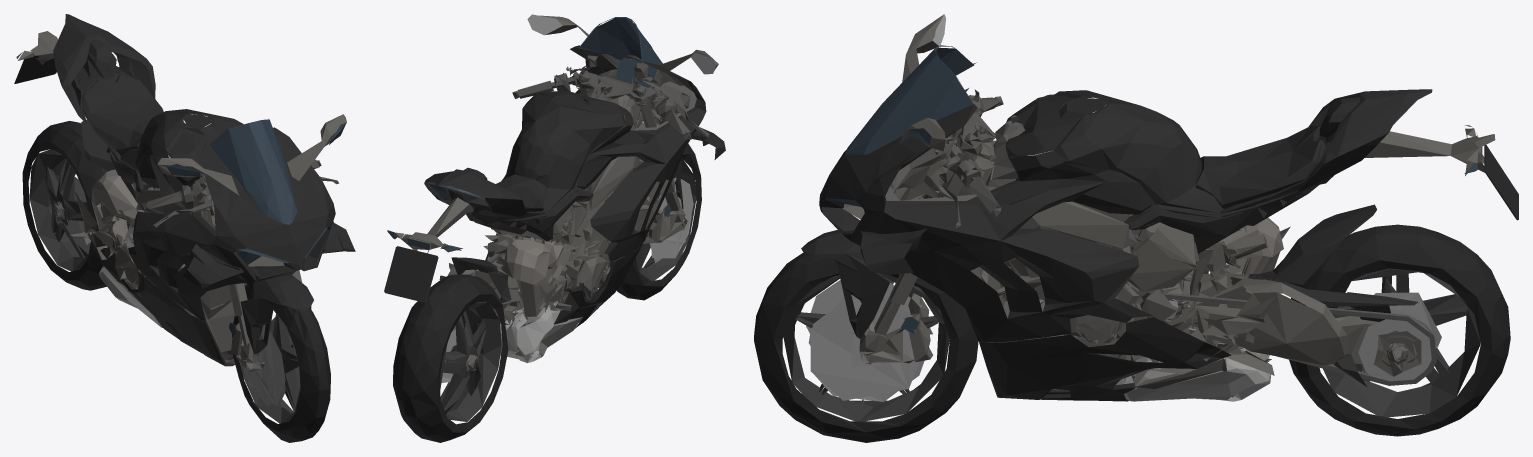
The model's file is dukati_lod.glb.
The picture shows the model from 3 angles, left to right: view 1: azimuth 30°, elevation 25°; view 2: azimuth 150°, elevation 25°; view 3: azimuth 270°, elevation 25°; orthographic projection. The views are drawn at different scales.
Visible parts, largest first — view 1: Object_2; view 2: Object_2; view 3: Object_2.
Part boxes in pixels (x1=…): Object_2: x1=14, y1=14, x2=355, y2=442; Object_2: x1=384, y1=14, x2=725, y2=442; Object_2: x1=754, y1=14, x2=1518, y2=442.
Size of the model in its own units: 0.7936 by 1.18 by 2.1.
